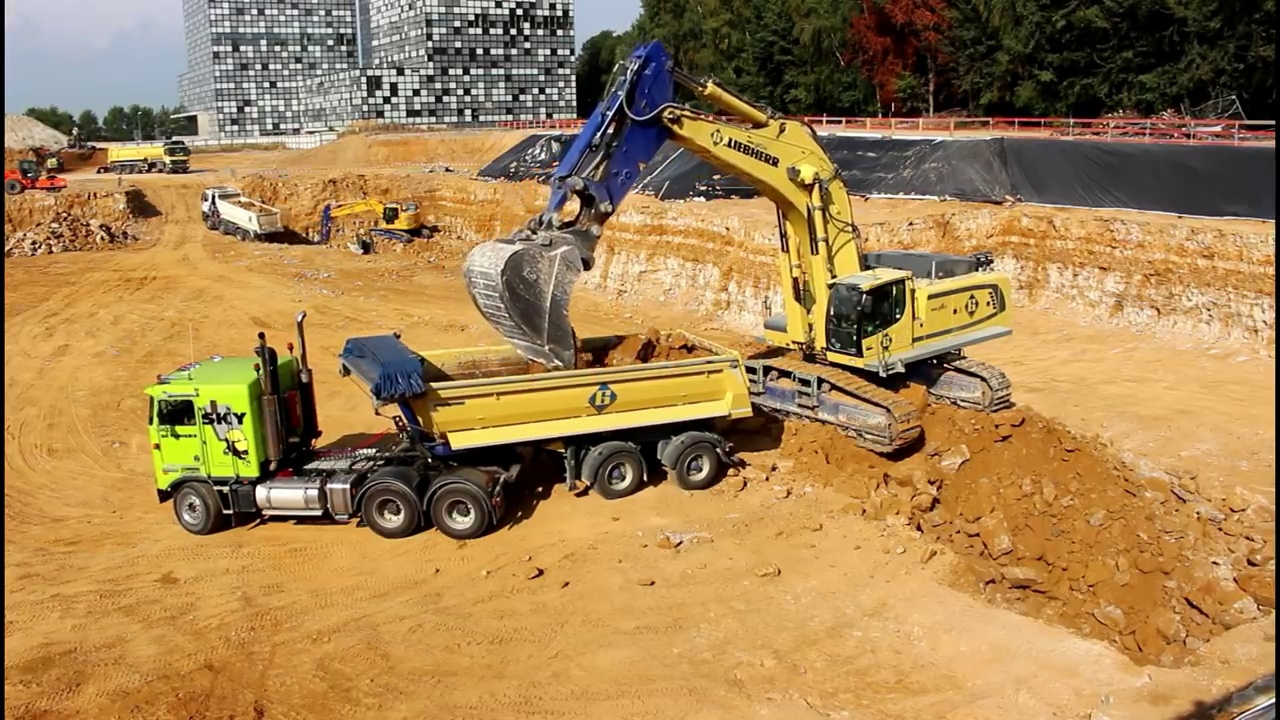compactor: (4, 159, 74, 198)
excavator: (461, 34, 1019, 457), (311, 195, 443, 259), (47, 121, 102, 176)
truck: (137, 306, 760, 540), (198, 183, 285, 248), (102, 134, 195, 182)
